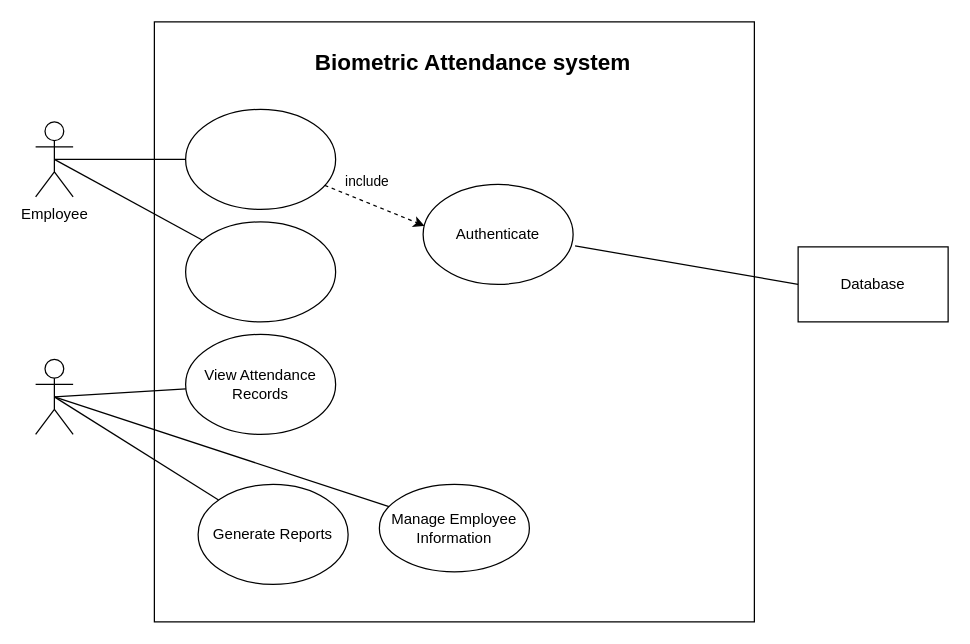
The diagram is 970 pixels wide and 644 high, and some of its shapes have lost their labels. Here are the shapes that lost their labels. From the top down, the centre of each, then its label:
At pixel 260 158: "Clock In/Out".
At pixel 260 271: "Receive Notifications".
At pixel 53 396: "Admin".
